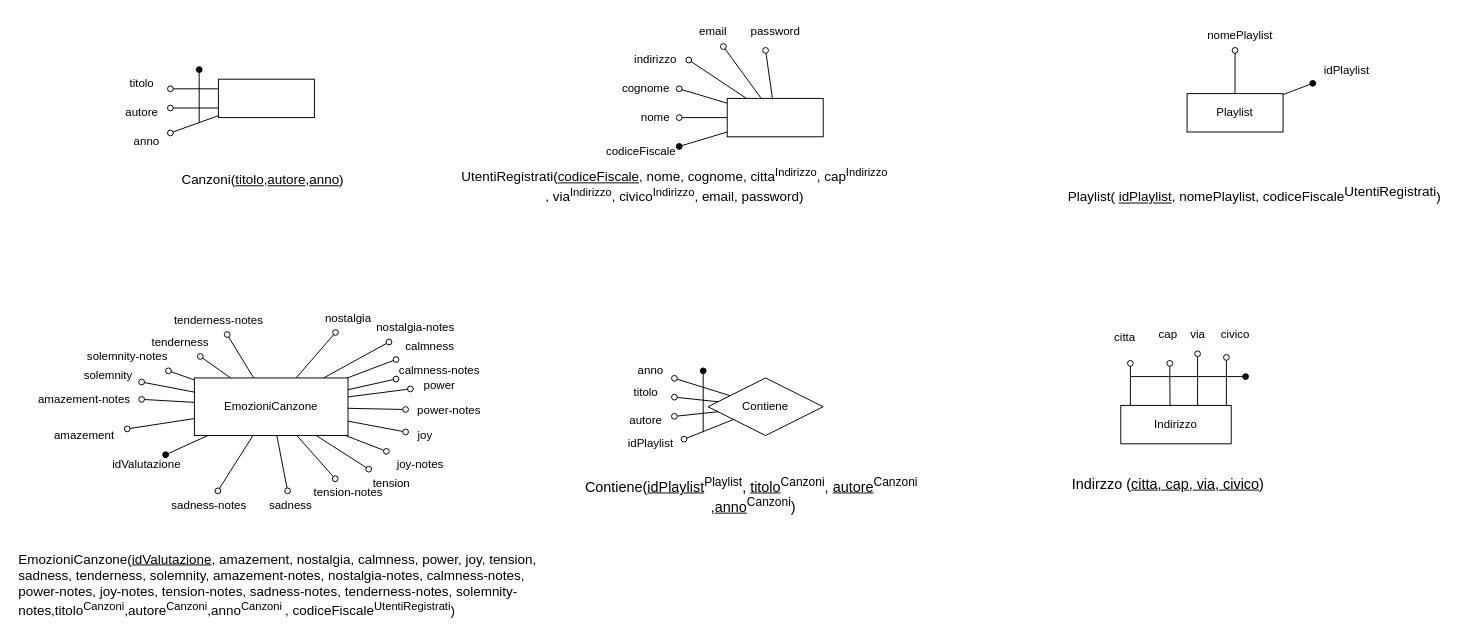
Some shapes in this 1467 by 637 pixel diagram are drawn without their labels. Here are the shapes that lost their labels. From the top down, the centre of each, then its label:
the point at 265,98: Canzoni
the point at 774,117: UtentiRegistrati
